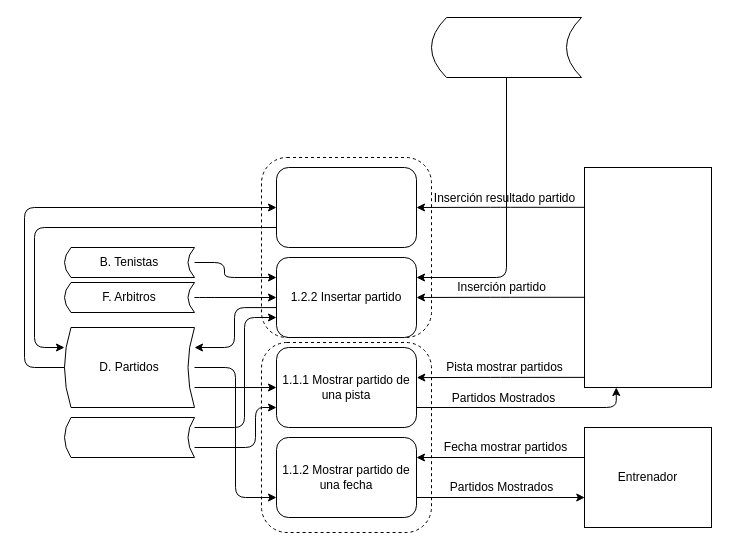
Image size: 729x550. Some labels were removed from this diagram. Here are the shapes that lost their labels. From the top down, the centre of each, then its label:
At point (506, 47): "A. Edición".
At point (346, 207): "1.2.1 Añadir resultado".
At point (648, 277): "Gestor del torneo".
At point (129, 437): "C. Pistas".
